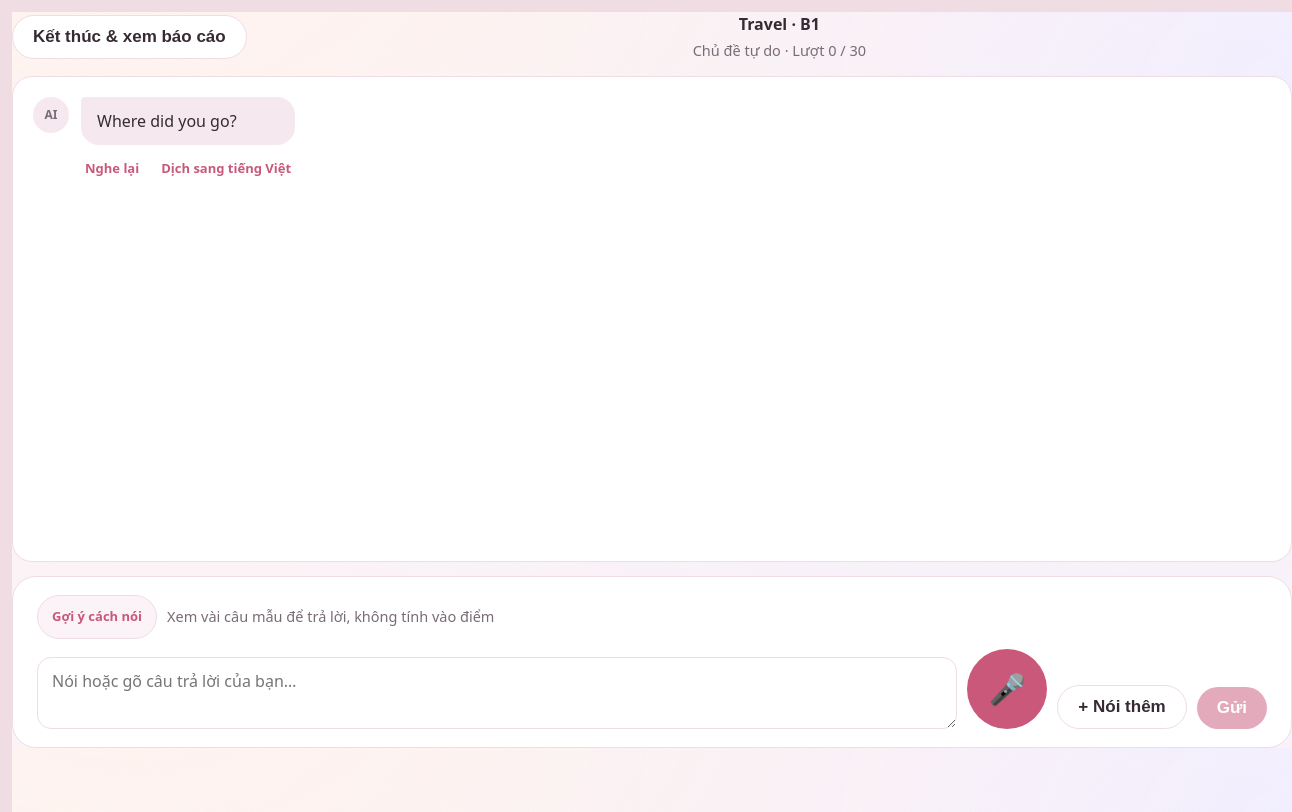
Test: ConversationSessionPage — STT prompt › passes the topic and the last AI message as the STT prompt
Click the button named "Bắt đầu ghi âm".
click(1007, 689)  # box x1=967 y1=649 x2=1047 y2=729
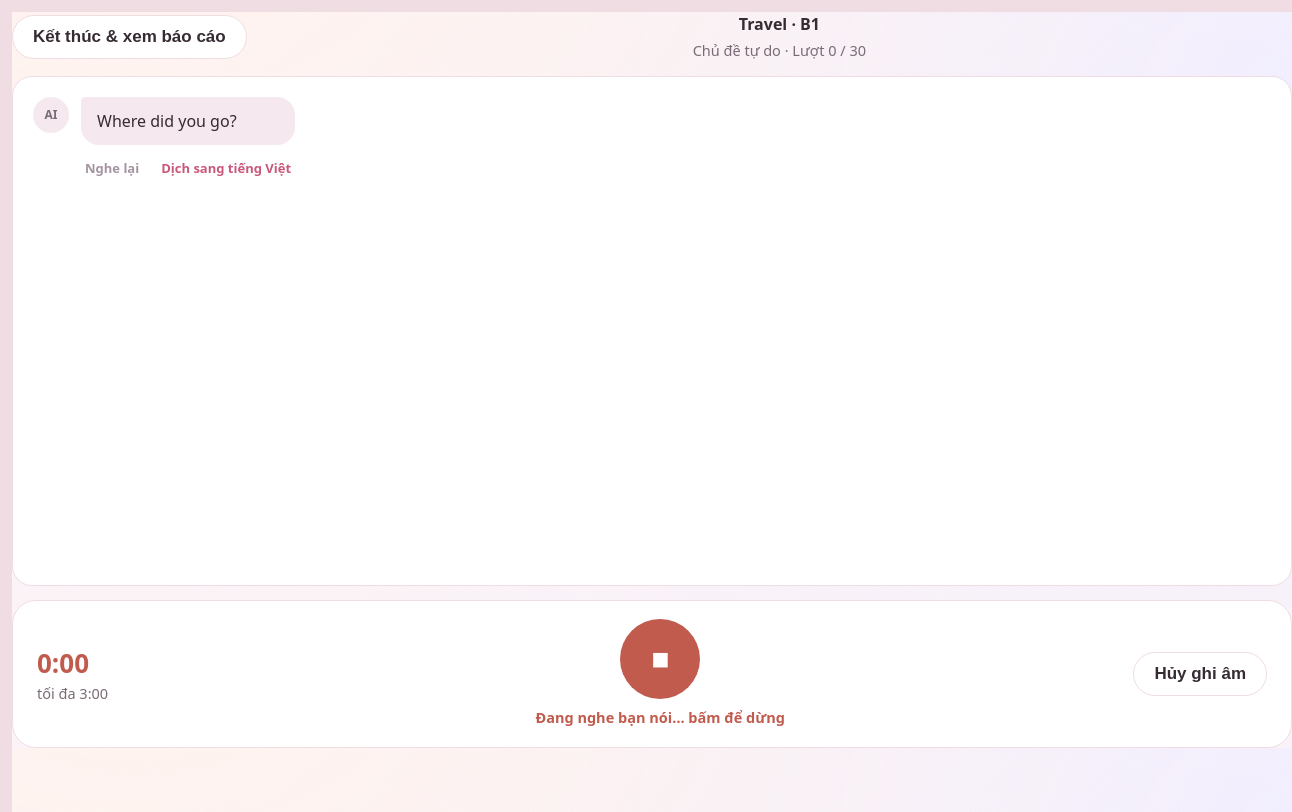
Click the button named "Dừng ghi âm".
click(660, 659)  # box x1=620 y1=619 x2=700 y2=699
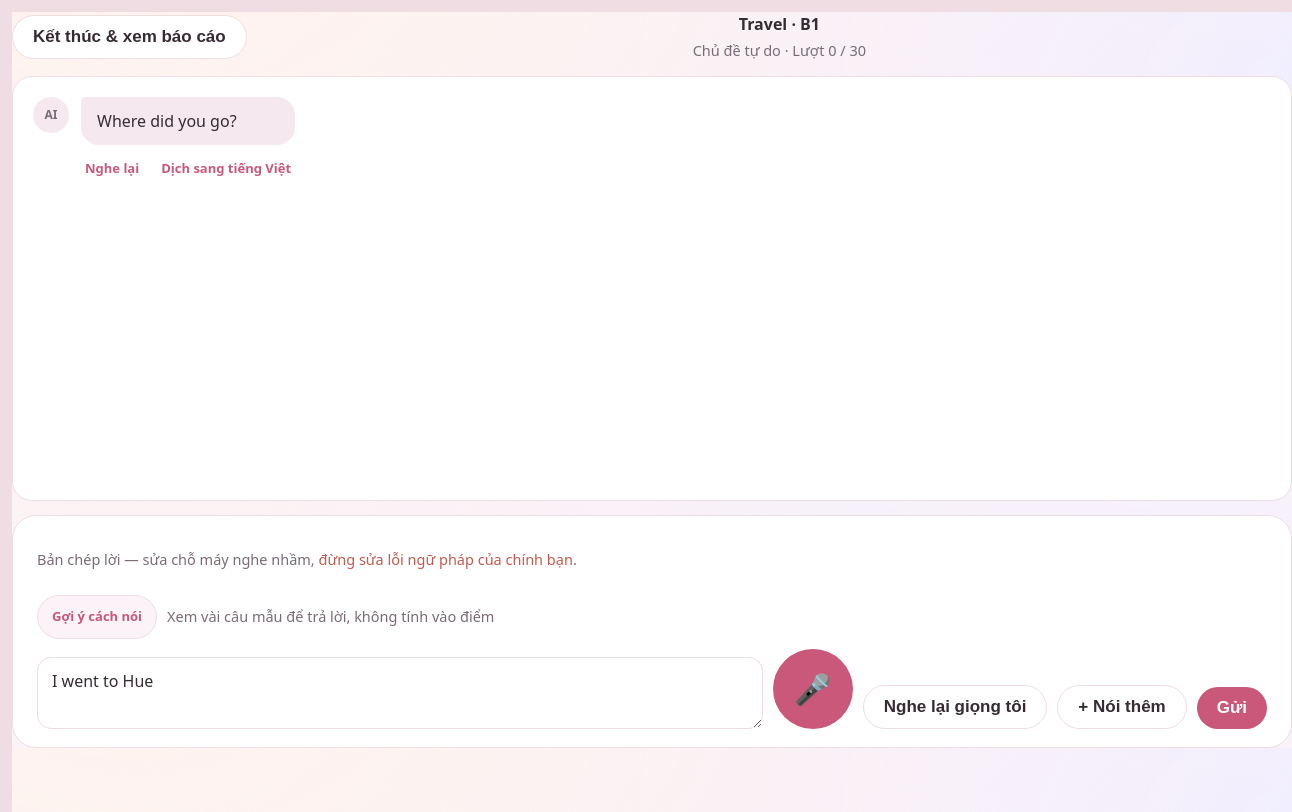
Now the text box named "câu trả lời của bạn" holds "I went to Hue", box x1=37 y1=657 x2=763 y2=729
